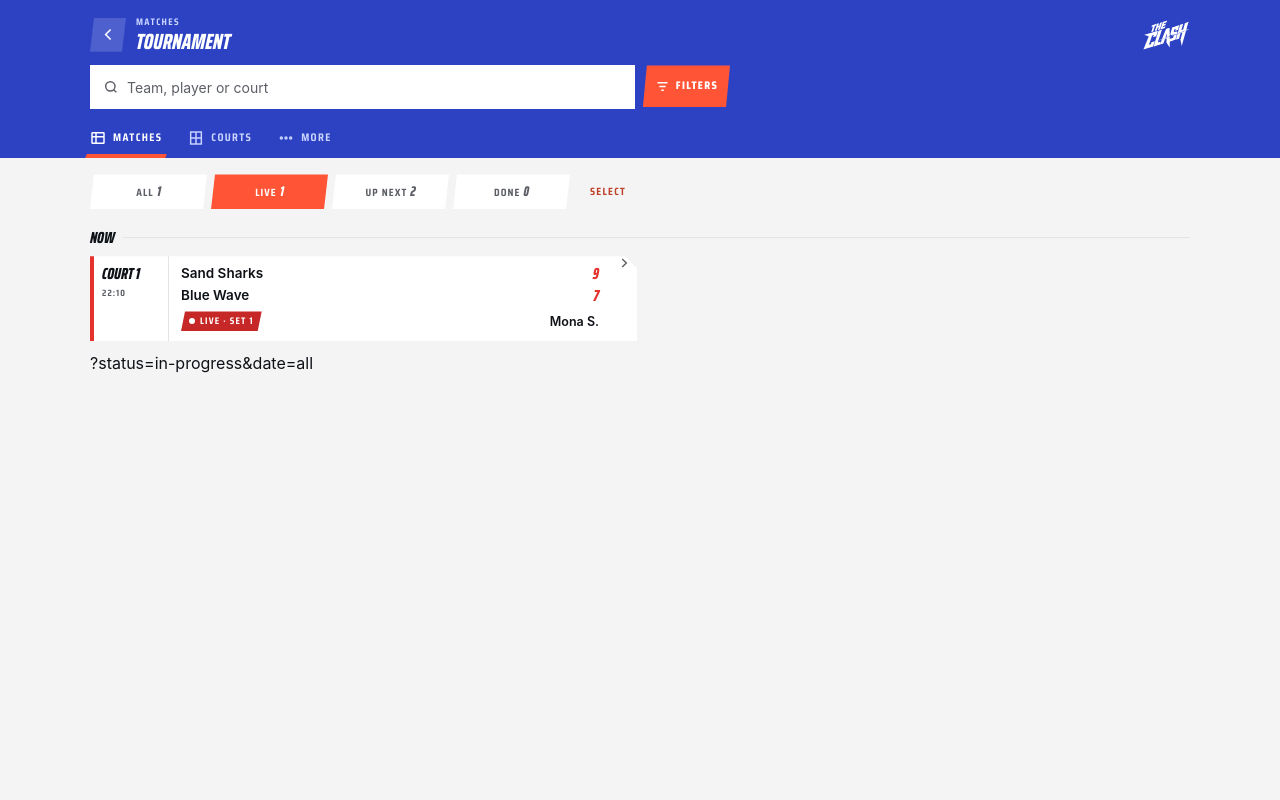
full access: the match sheet's ✕ unassigns a referee with the referee's and the match's ids, refreshes and says so
Click the text "Sand Sharks". click: (222, 273)
box: [181,265,263,281]
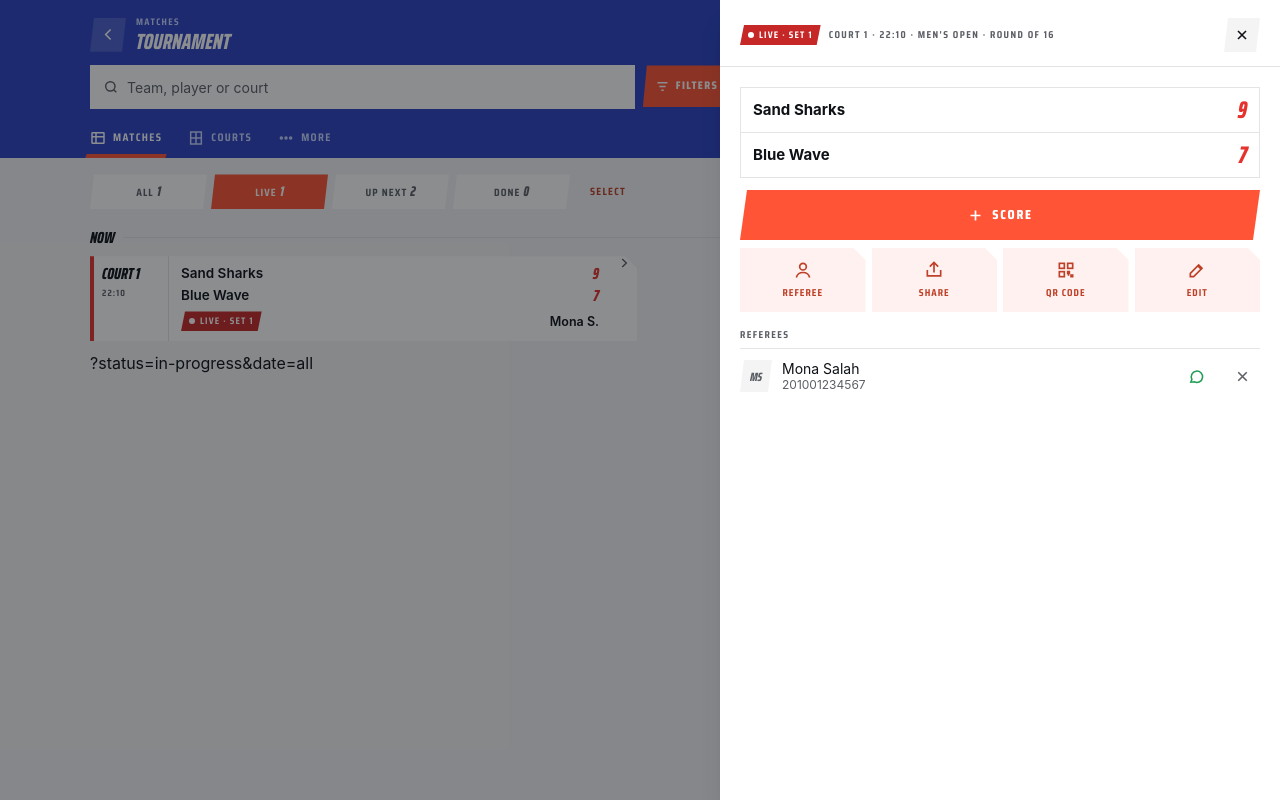
Click the button named "Unassign Mona Salah". click: (1242, 376)
box: [1224,358,1260,394]
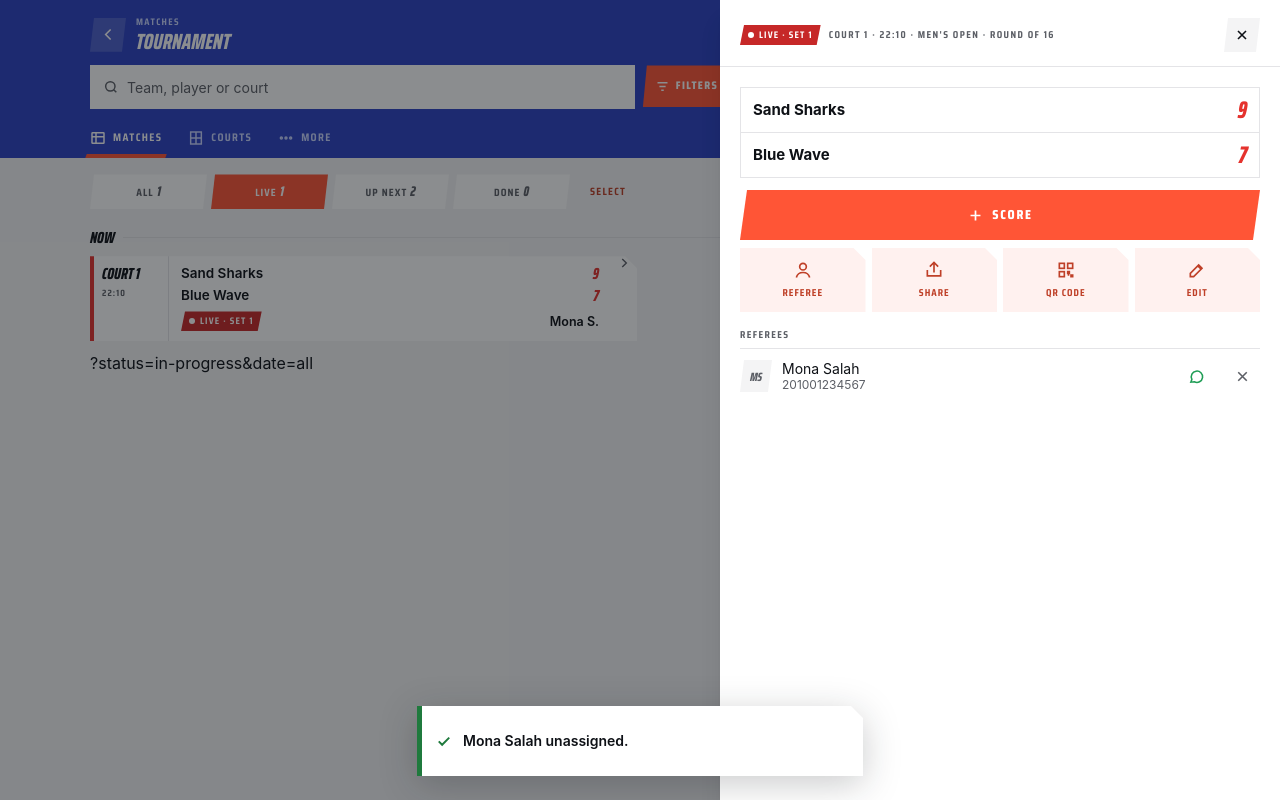
Check: the text "Mona Salah unassigned." is shown, box [463,732,628,748]
